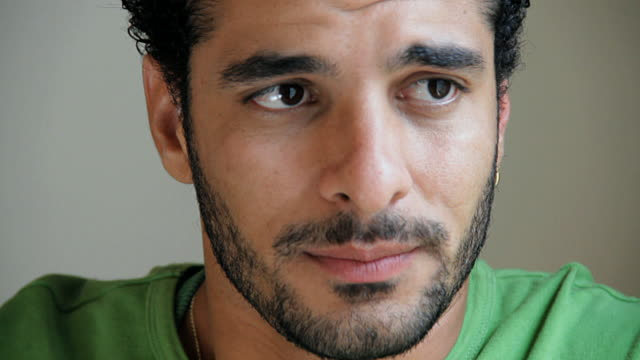sad: (181, 14, 500, 354)
